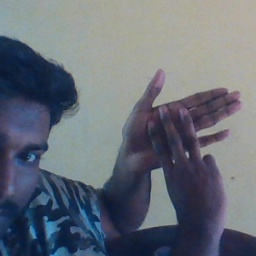M: (118, 66, 245, 218)
